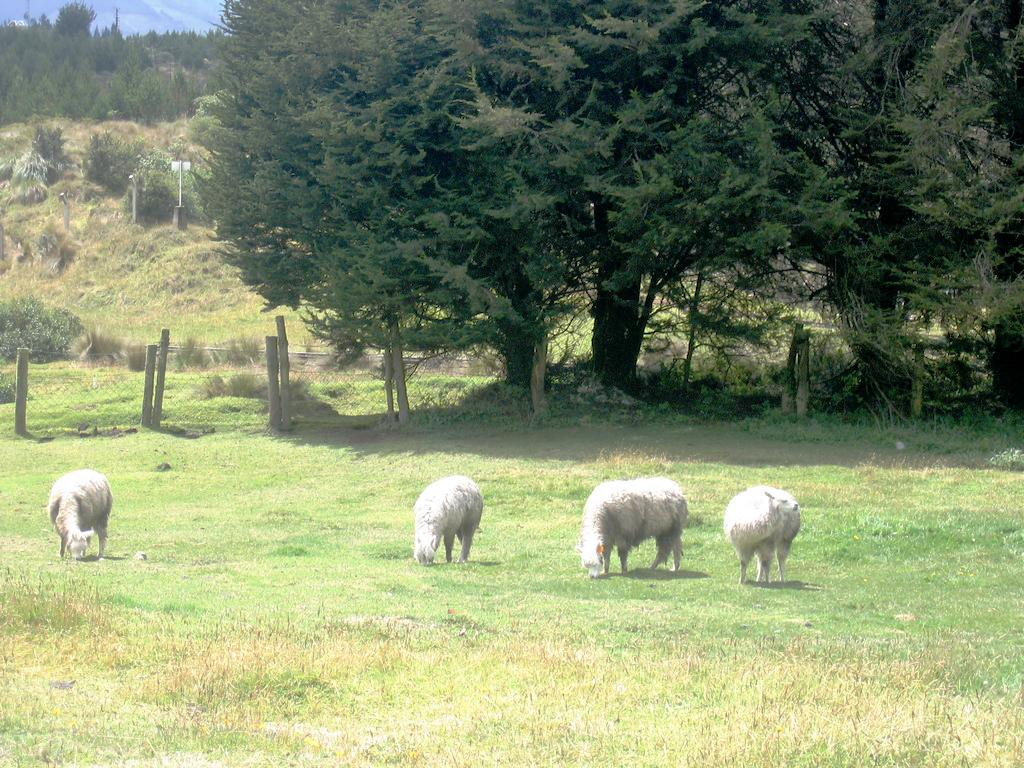Sheep: (578, 479, 689, 574), (722, 486, 802, 586), (414, 471, 488, 563), (46, 465, 114, 557)
